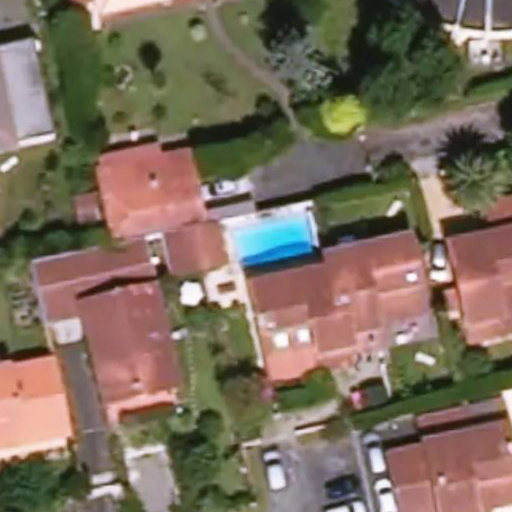pool: (226, 229, 285, 254)
